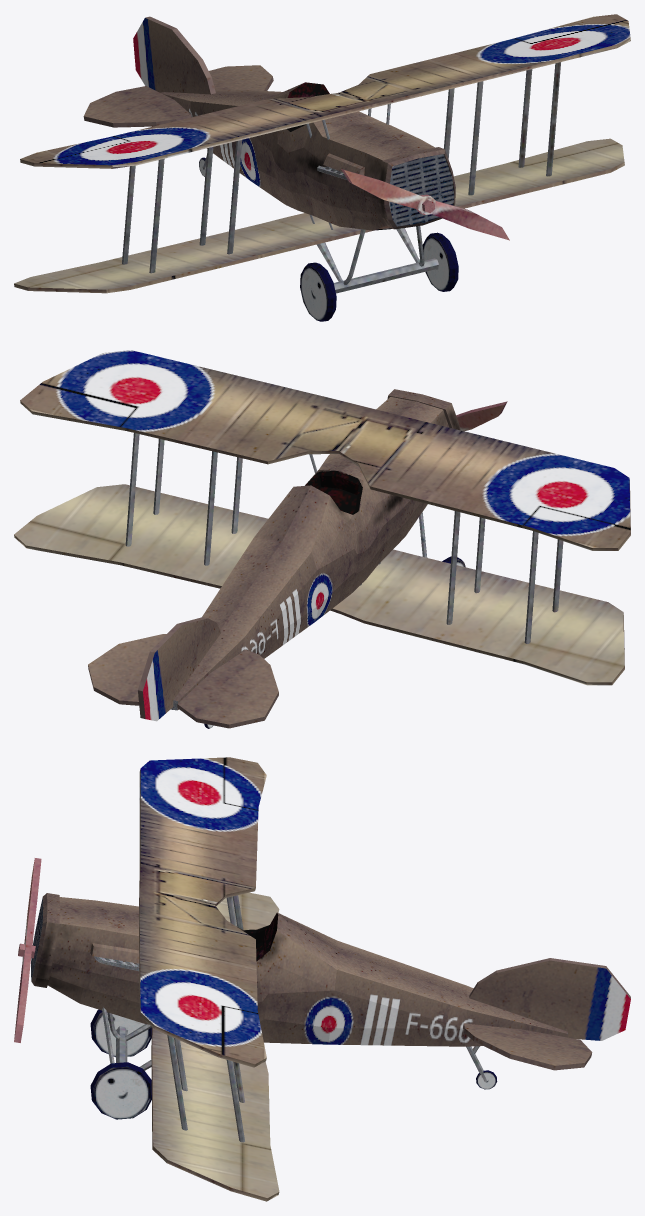
Rendered from Bristol F.fbx.
The picture shows the model from 3 angles, top to bottom: view 1: azimuth 30°, elevation 25°; view 2: azimuth 150°, elevation 25°; view 3: azimuth 270°, elevation 25°; orthographic projection. The views are drawn at different scales.
Parts seen in each view (by area): view 1: Cylinder.008; view 2: Cylinder.008; view 3: Cylinder.008.
Part boxes in pixels (x1,y1,x2,y2): Cylinder.008: (14,14,630,321); Cylinder.008: (14,350,630,728); Cylinder.008: (14,757,630,1201).
Bounding box in the file's own units: 900 × 280 × 776.
